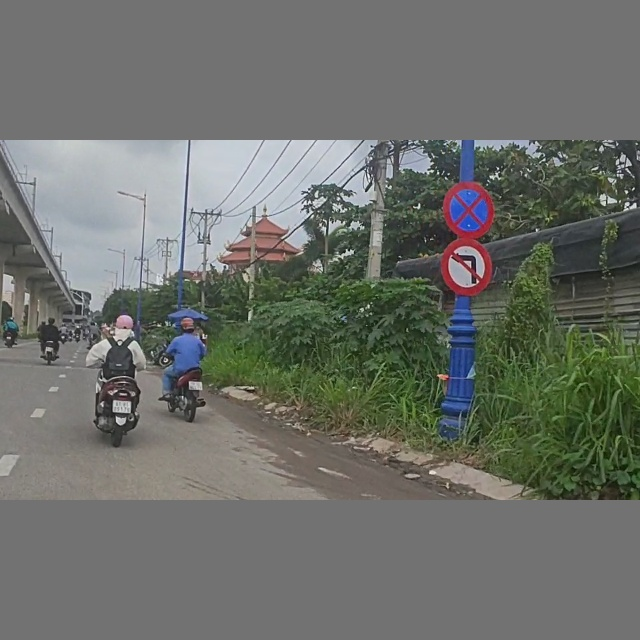P.123a: (441, 239, 493, 295)
P.130: (443, 181, 494, 237)
